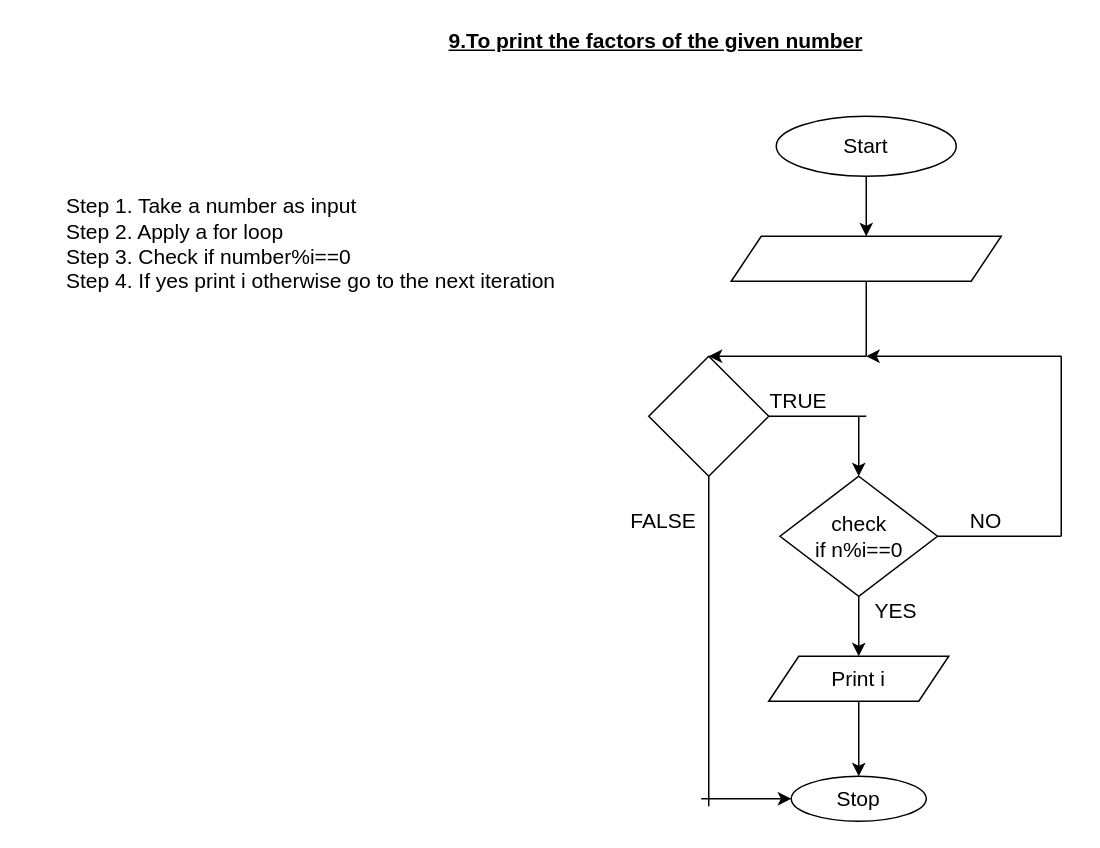
This 1100x848 diagram has some shape labels left out. Each missing label, with the box of its shape:
for loop i<=n: (647, 355, 769, 476)
Input a number: (730, 235, 1001, 281)
